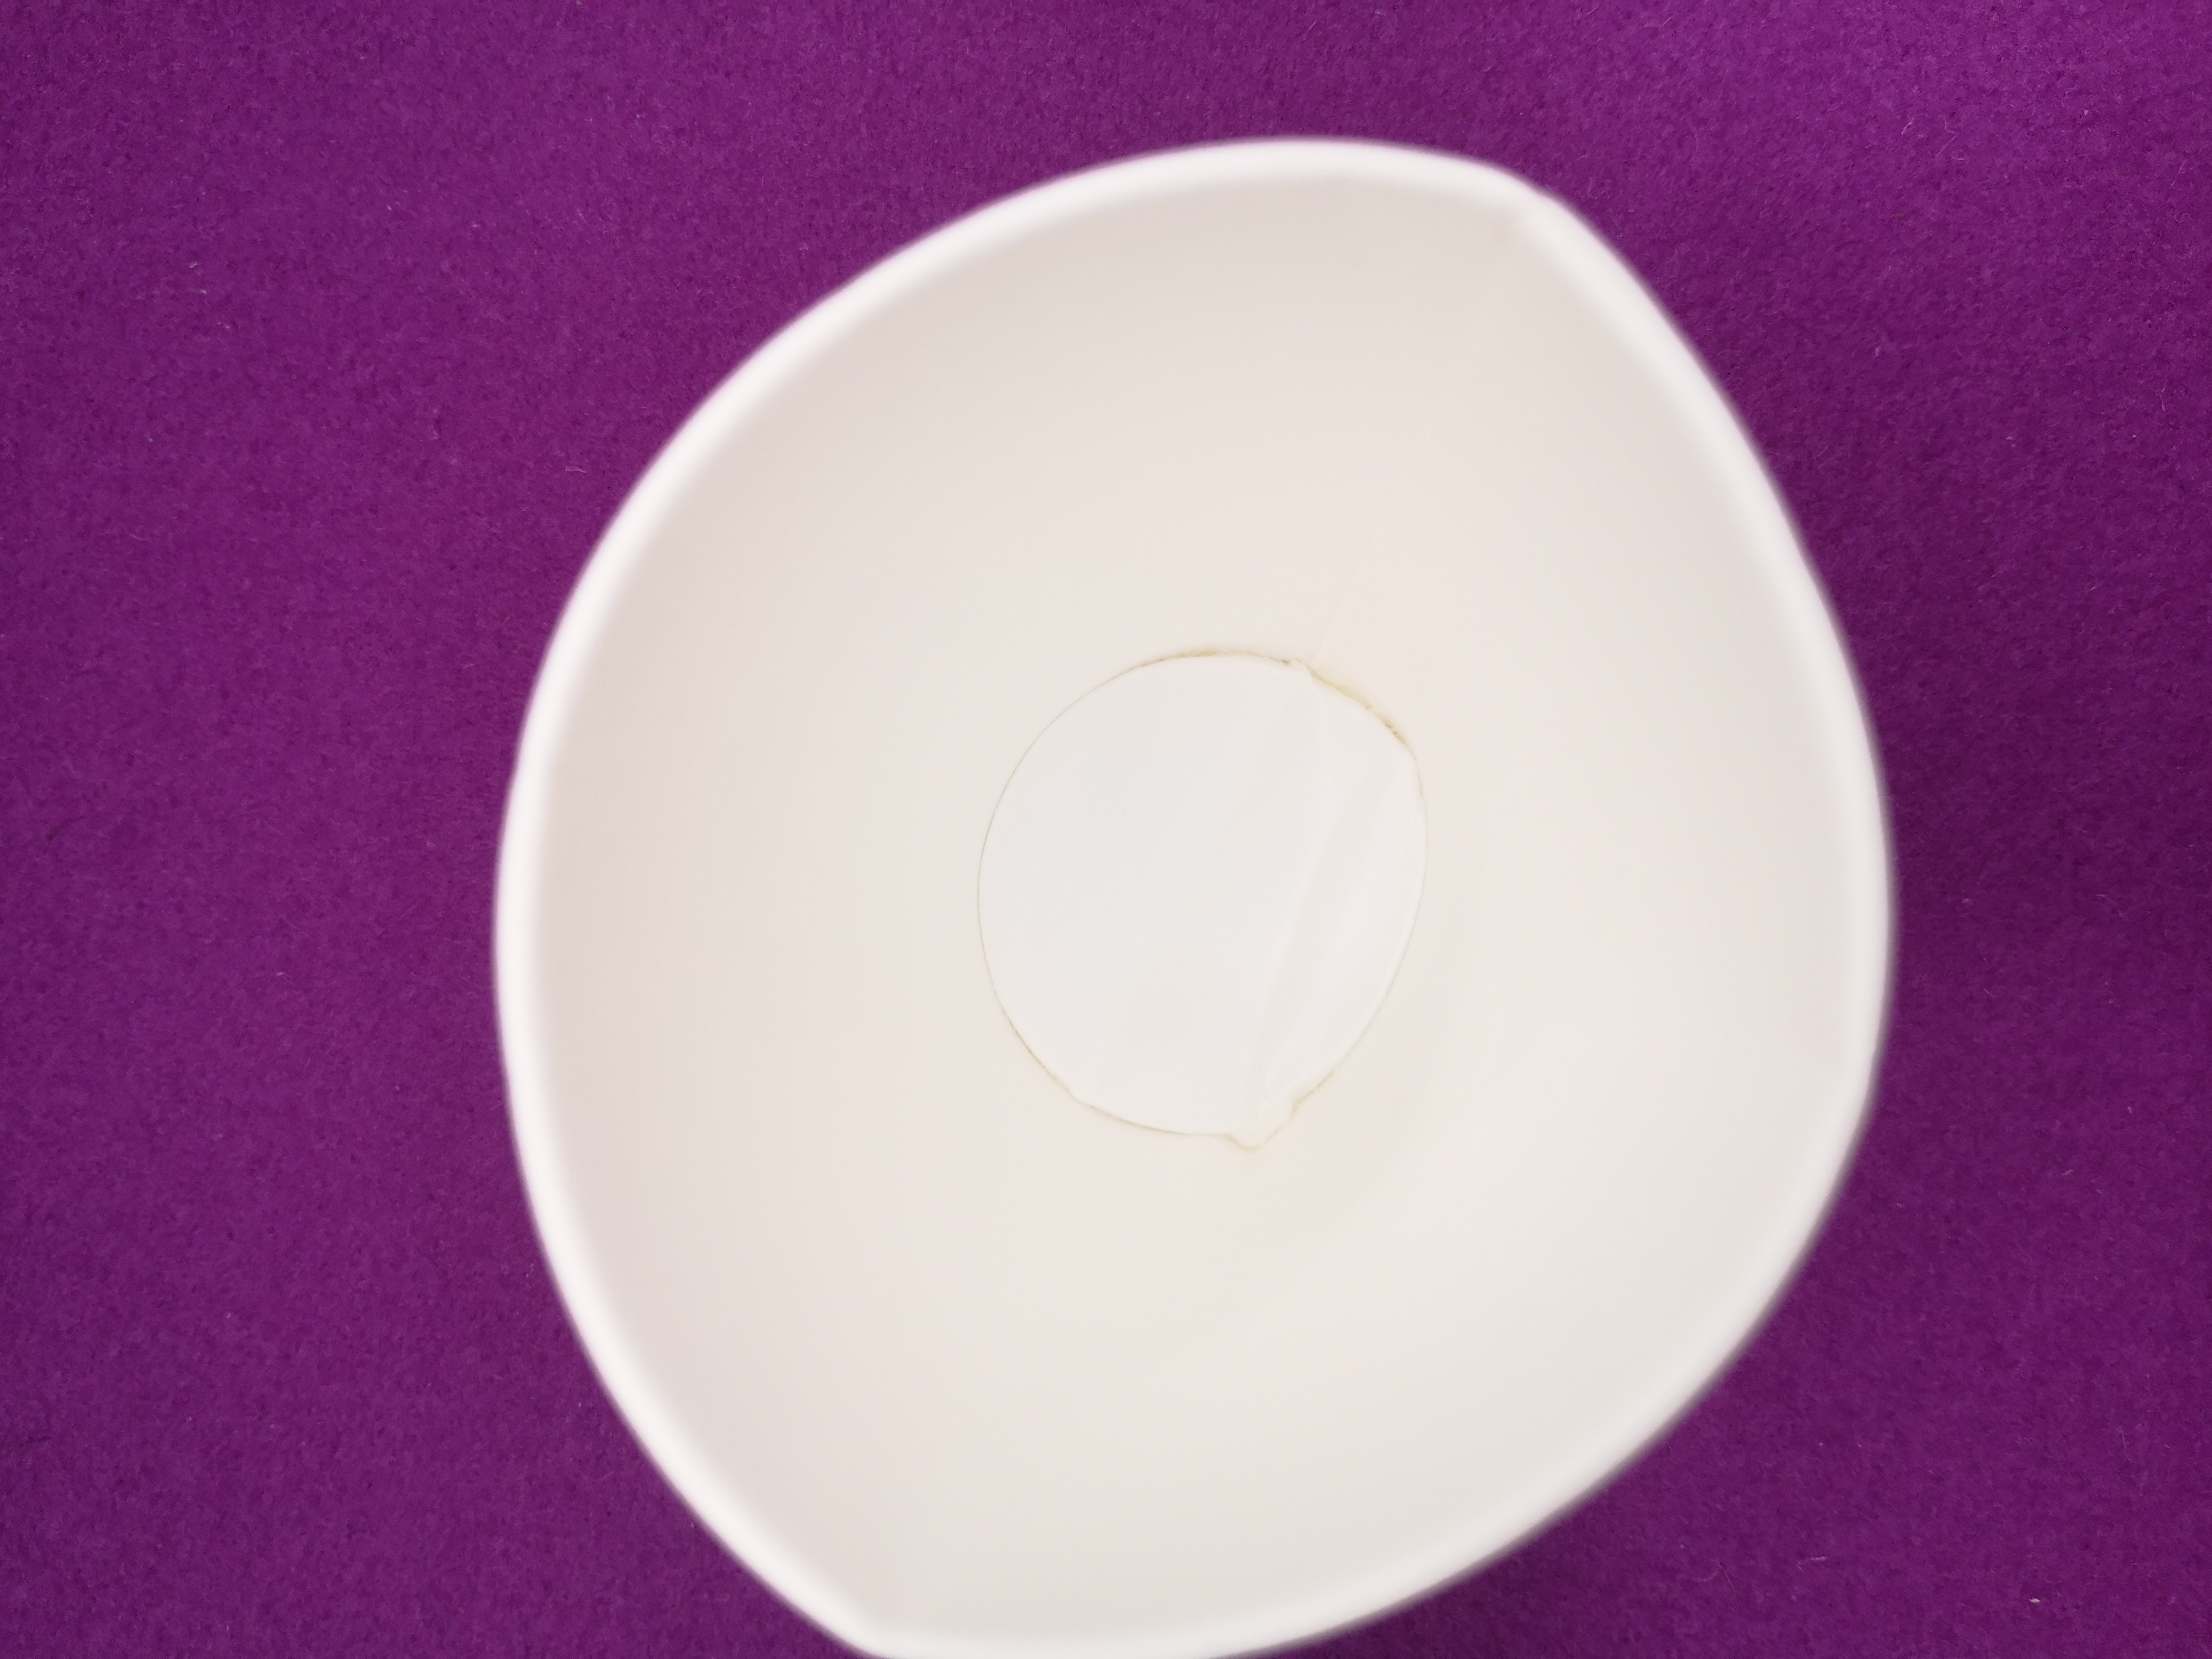cup: (463, 110, 1951, 1659)
